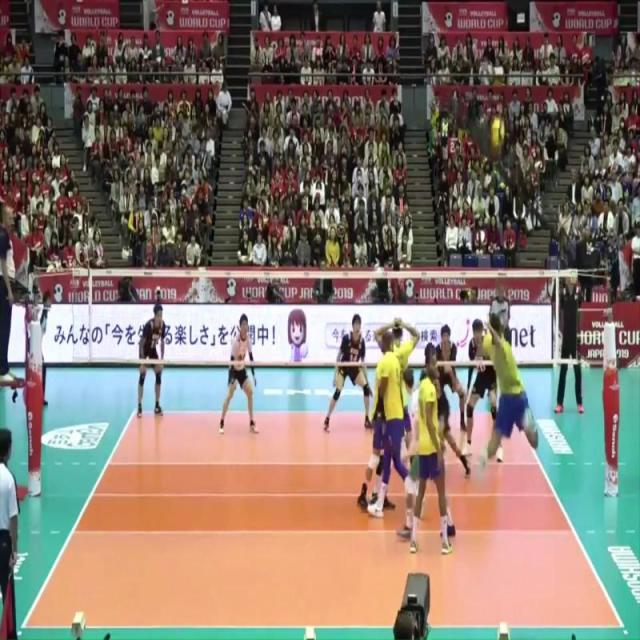volleyball: (488, 114, 509, 148)
